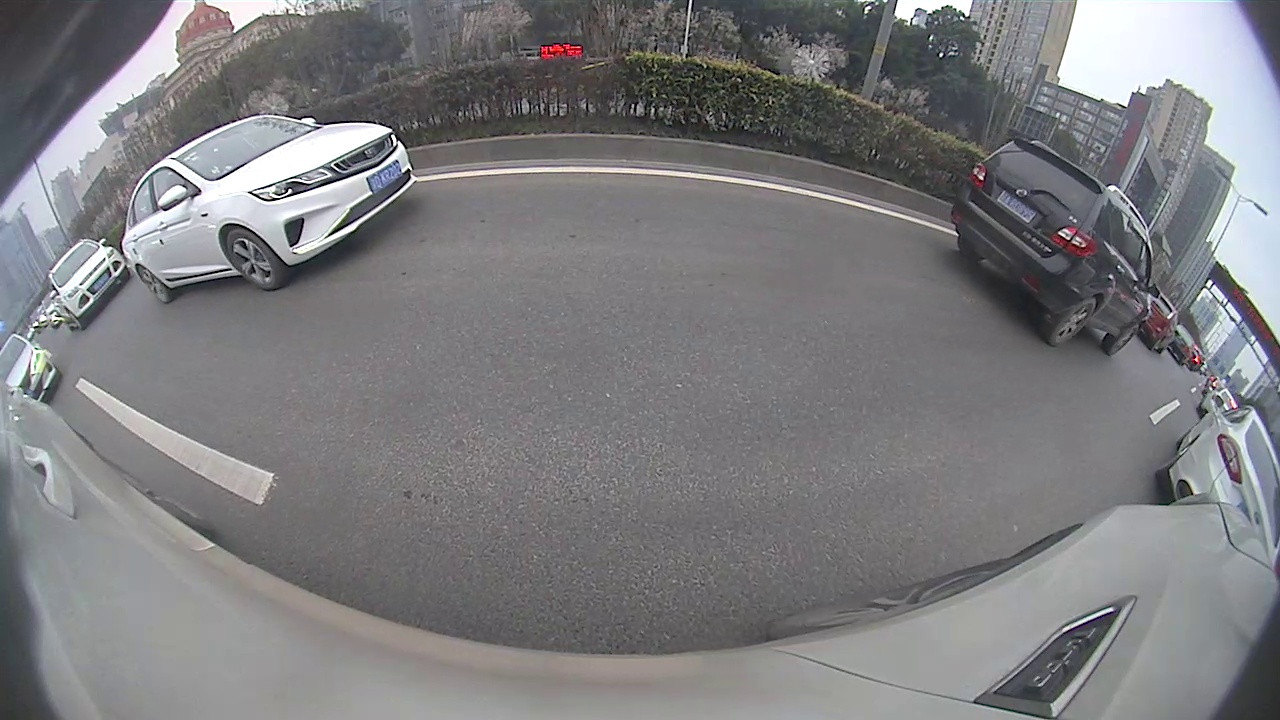car: (119, 113, 420, 304), (948, 135, 1161, 358), (1152, 402, 1277, 570), (46, 237, 135, 332), (2, 333, 63, 408)
front: (226, 228, 284, 292), (1106, 320, 1140, 357)
rear: (1048, 295, 1098, 347), (137, 264, 174, 303)
